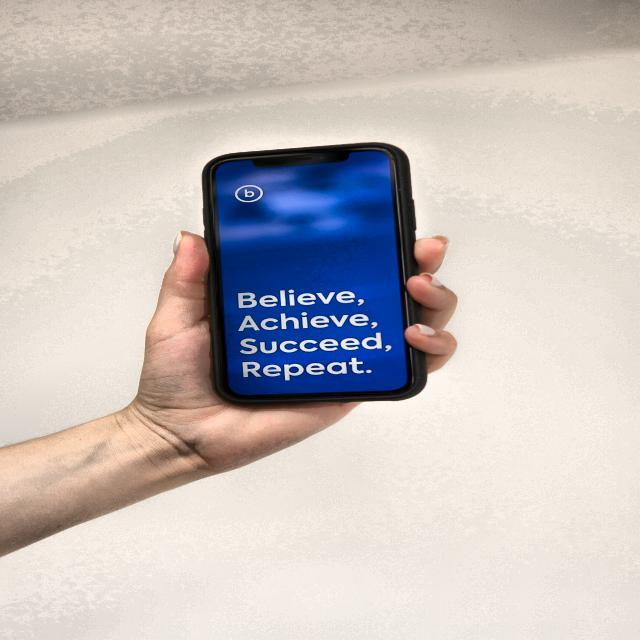Phone: (196, 139, 428, 405)
